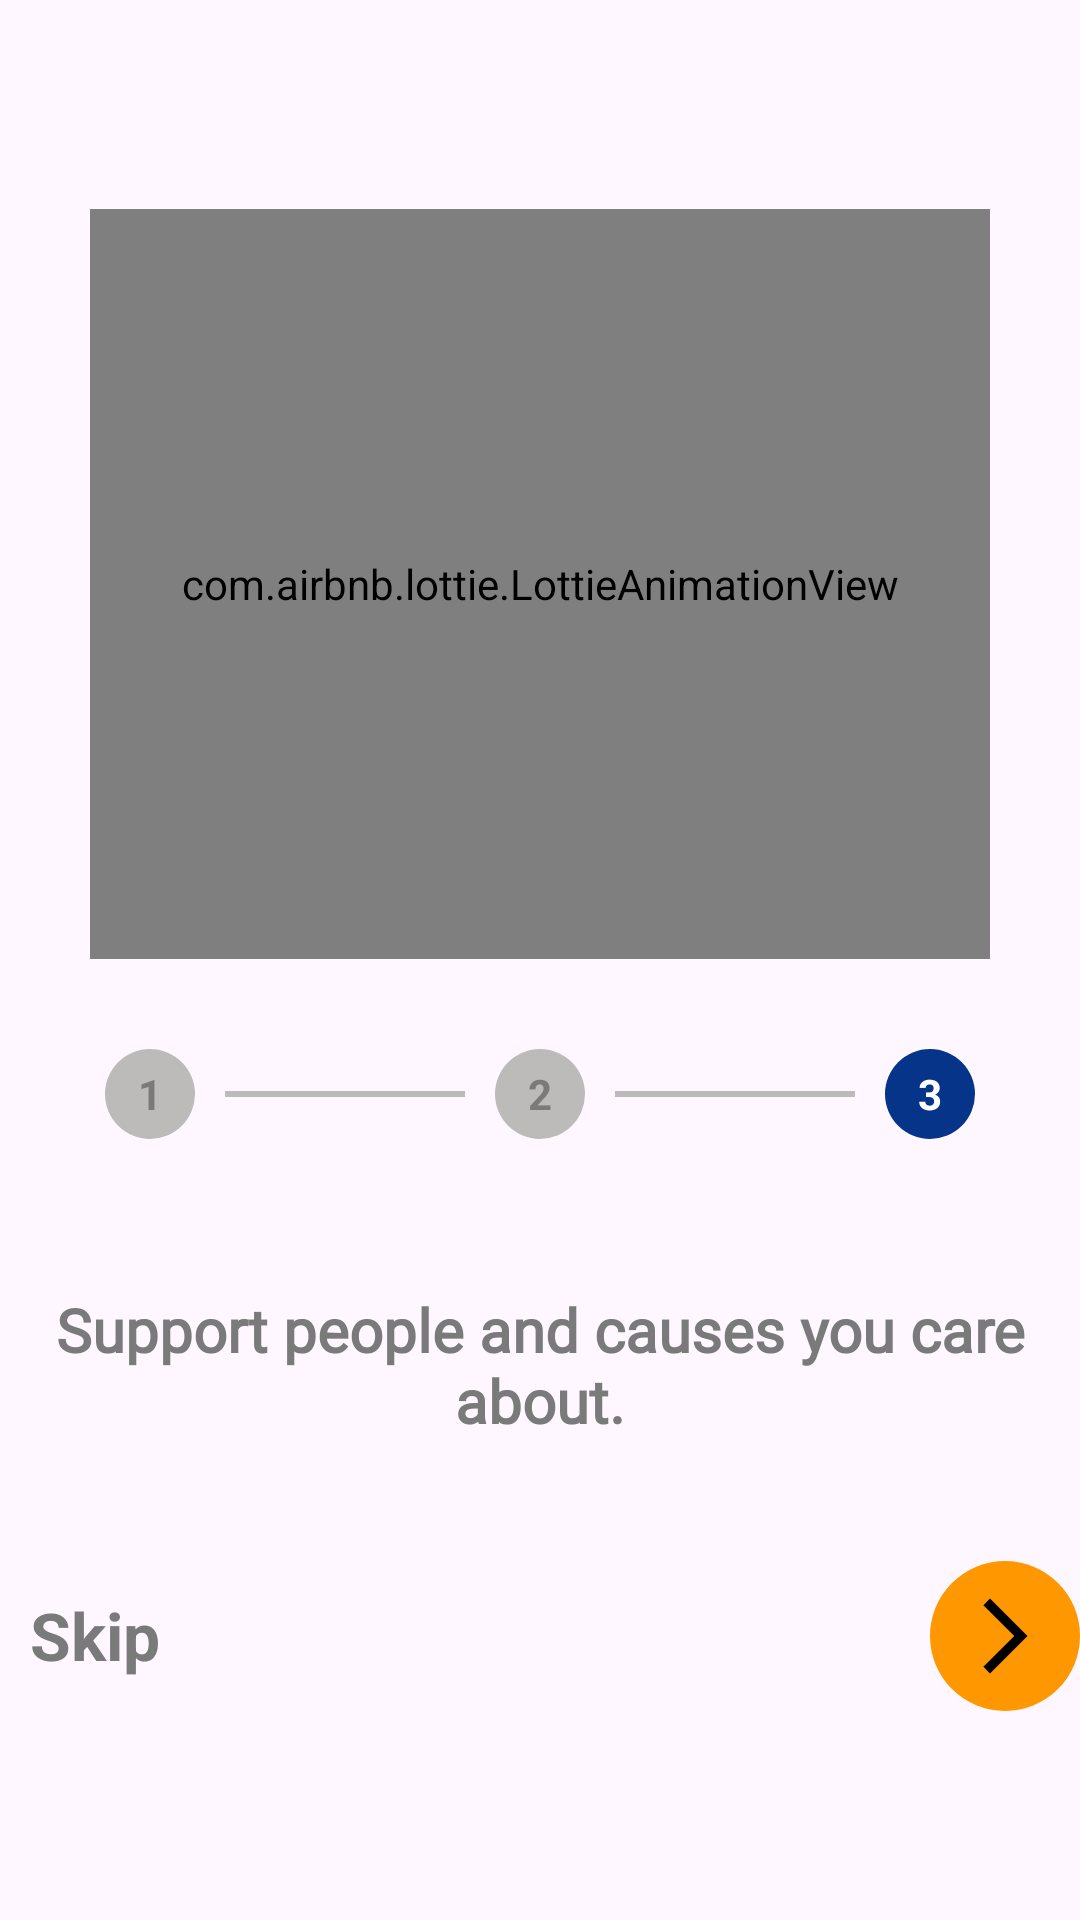

Point at icon controls on the screen. Image size 1080×1920, points as (x=x, y=y).
arrow forward: (x=1005, y=1636)
